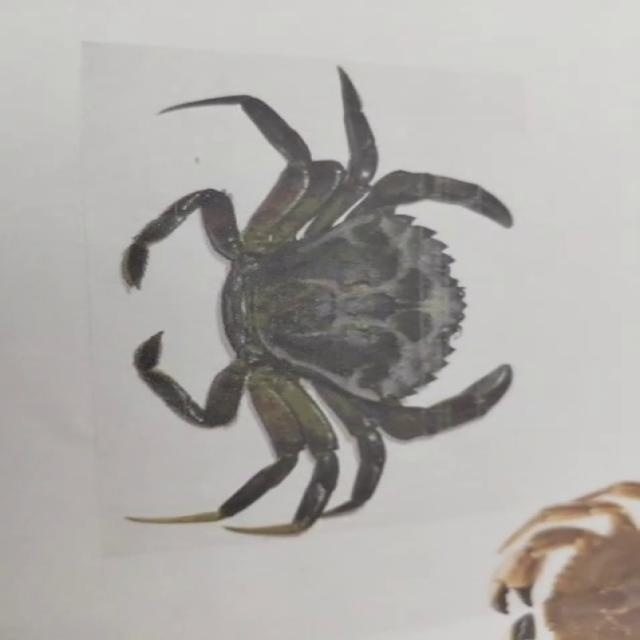egc: (123, 68, 511, 534)
